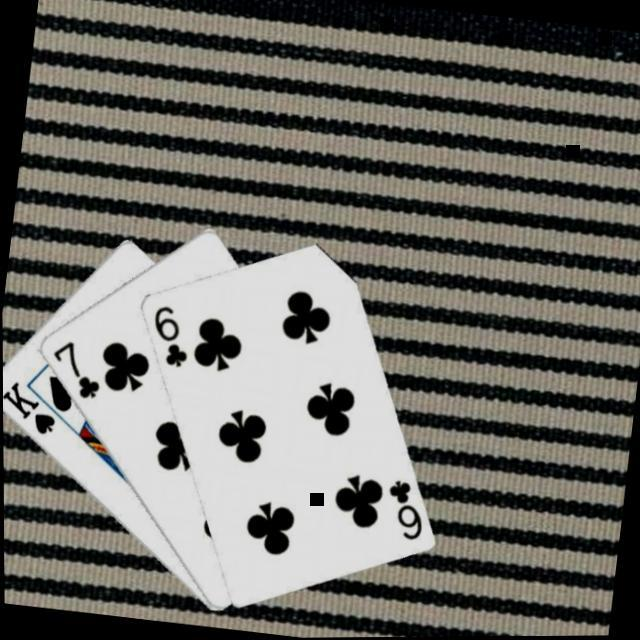6C: (144, 299, 197, 370), (379, 474, 430, 544)
7C: (44, 335, 107, 403)
KS: (2, 376, 62, 439)
